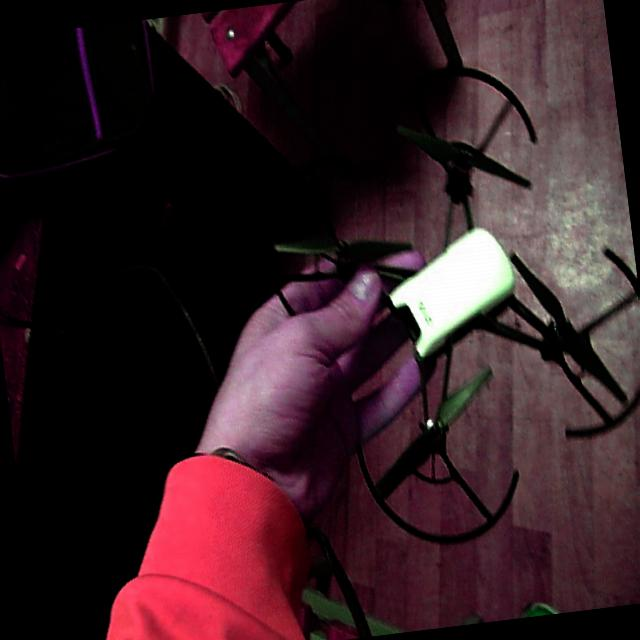drone: (240, 38, 640, 568)
